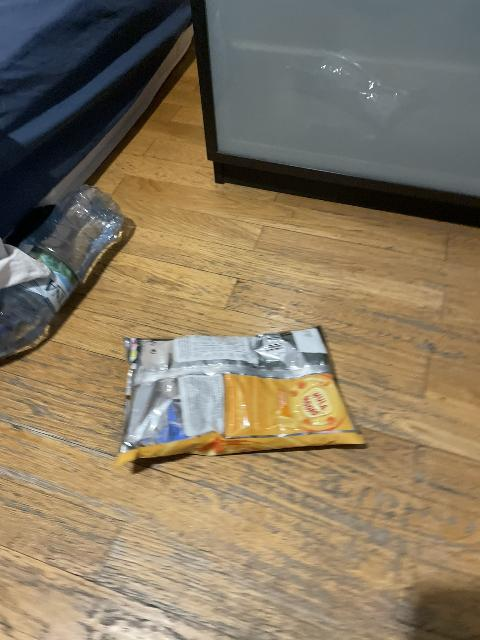Chio Hula Hoops Cheese 70g: (122, 330, 367, 465)
